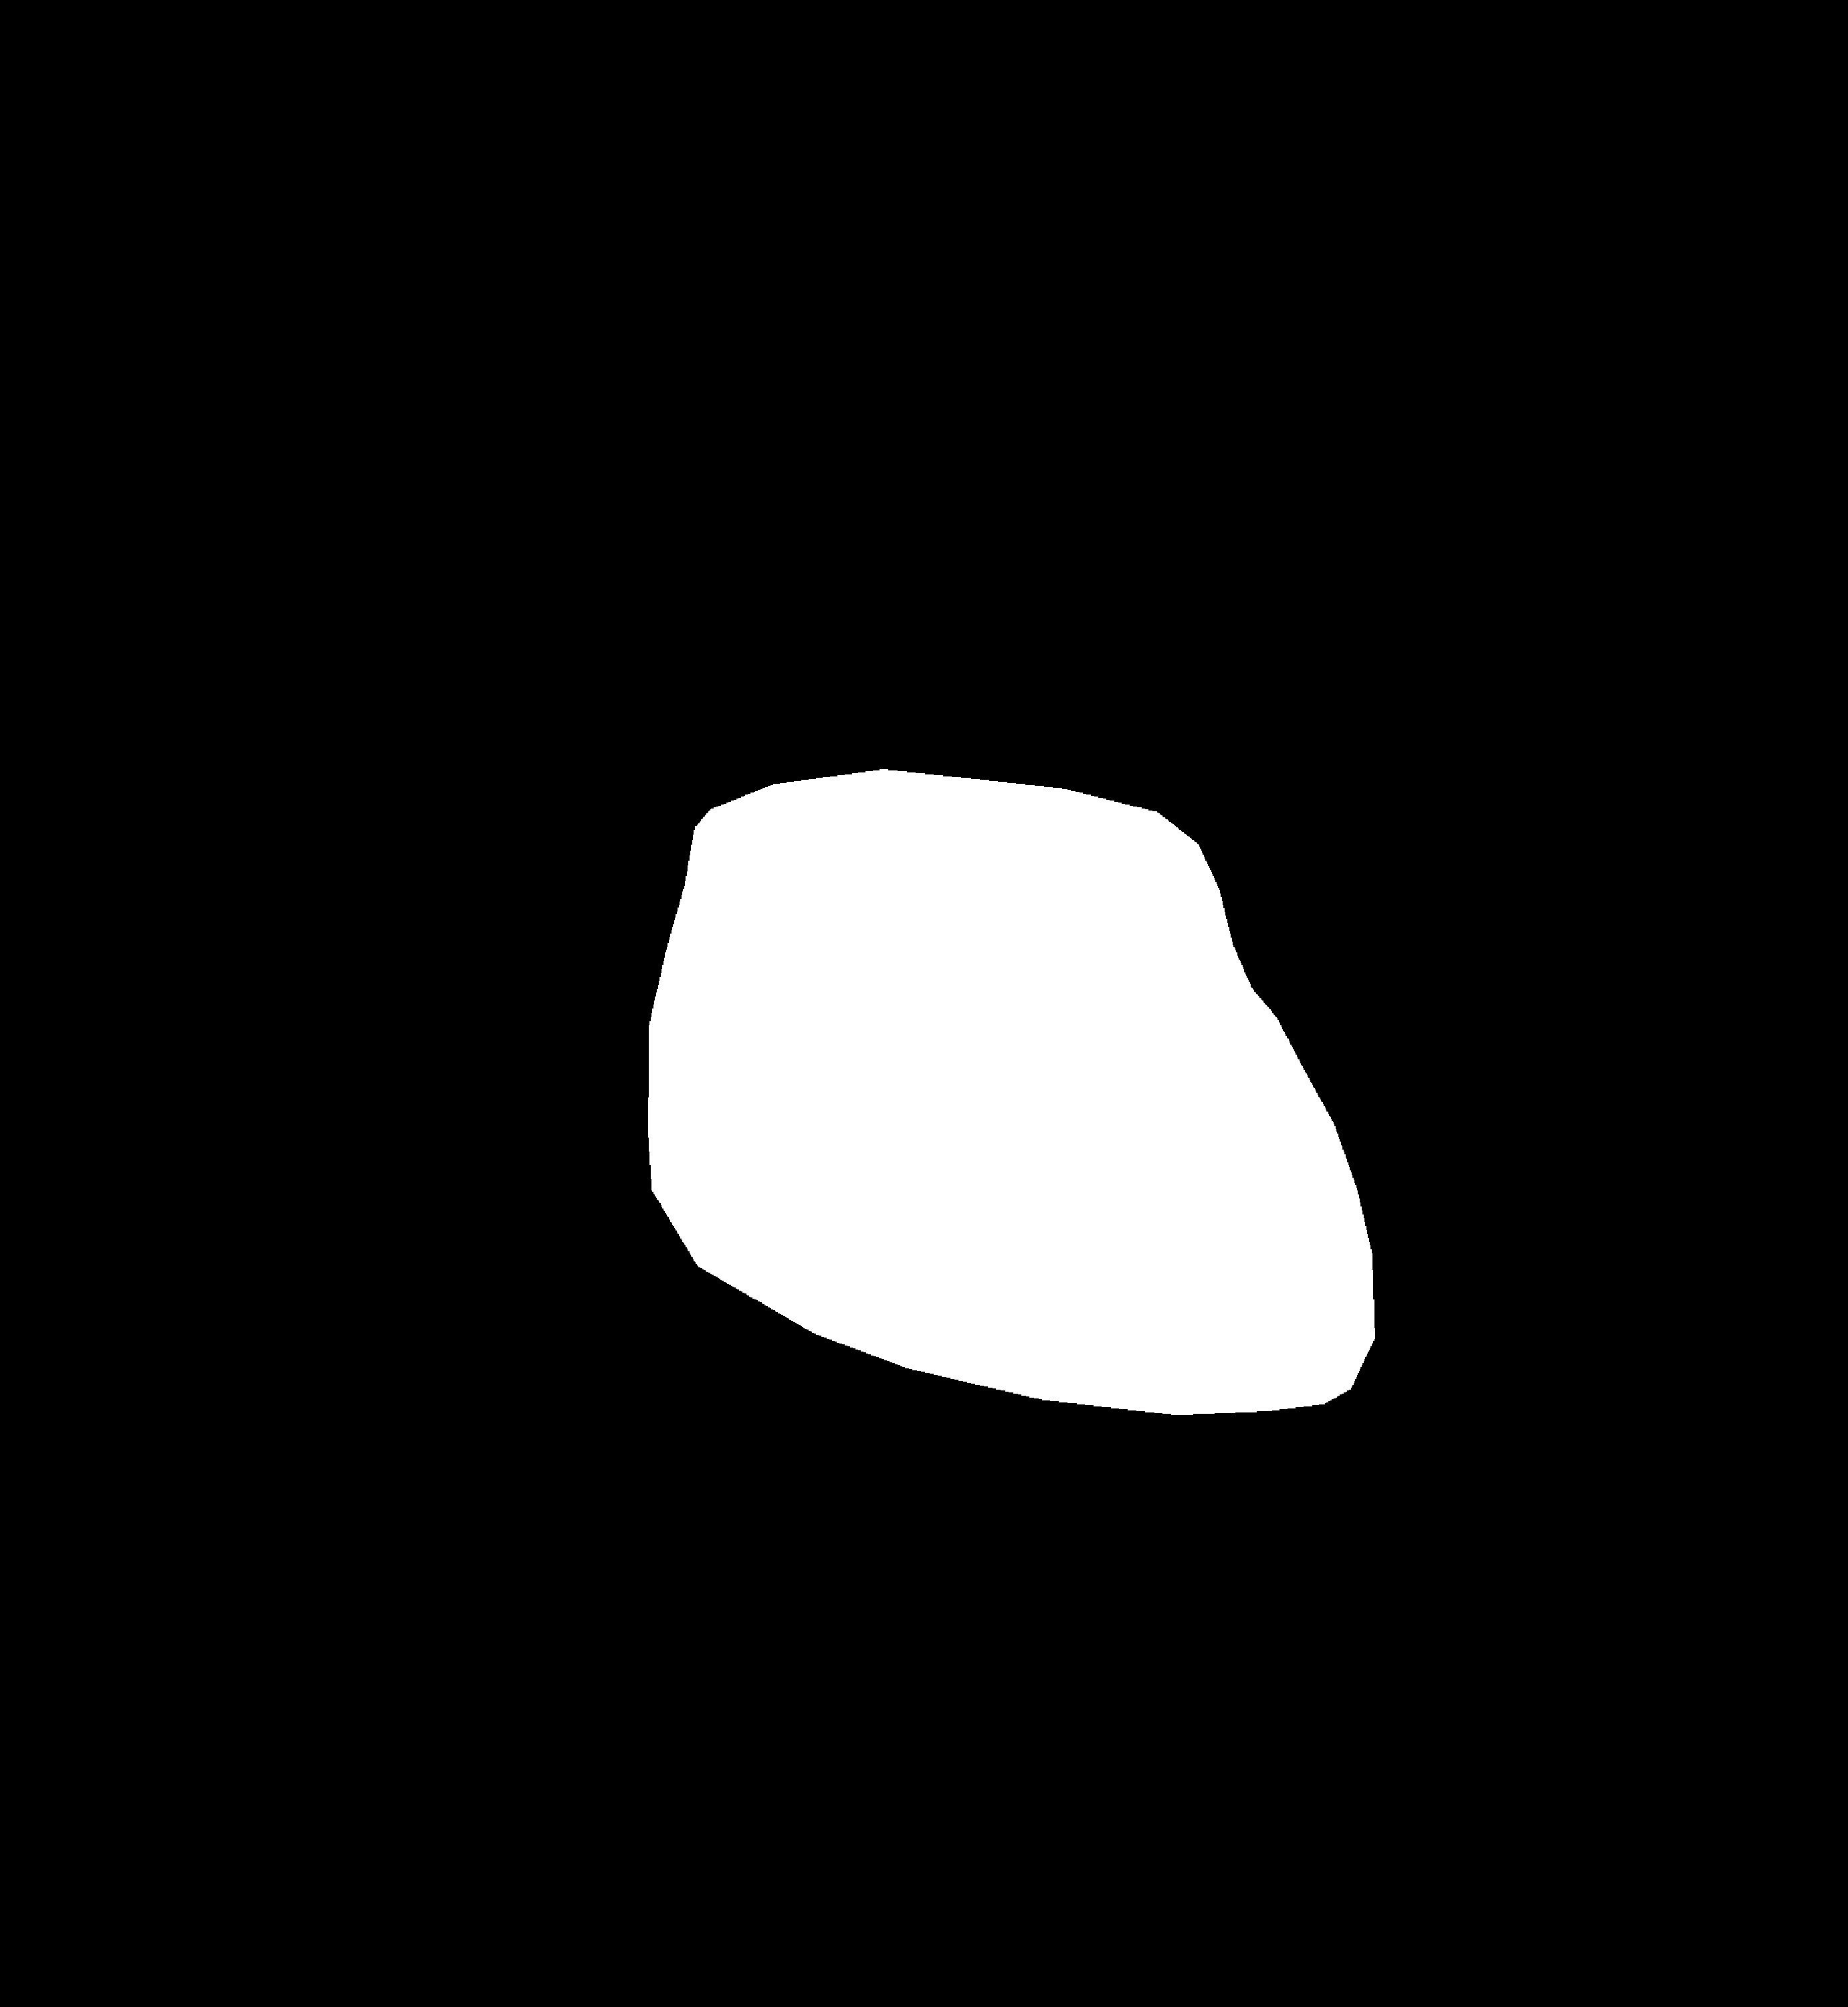heart: (649, 916, 1371, 1517)
left_lung: (212, 271, 747, 1442)
right_lung: (997, 227, 1567, 1519)
